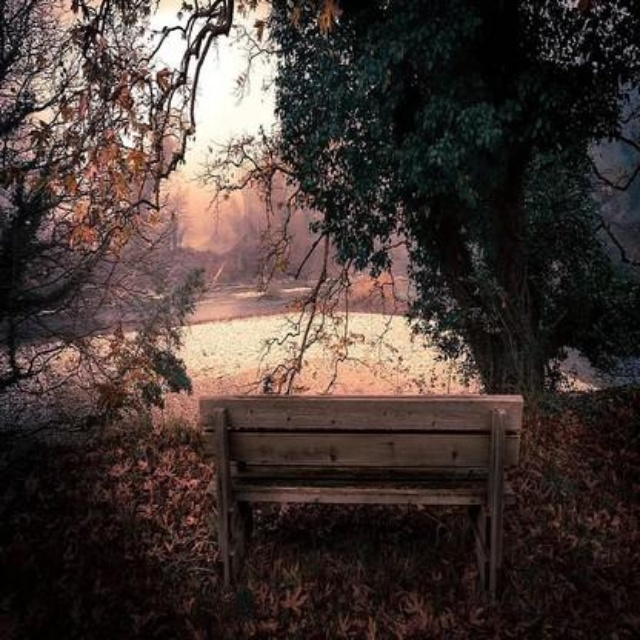obstacle: (185, 369, 549, 598)
